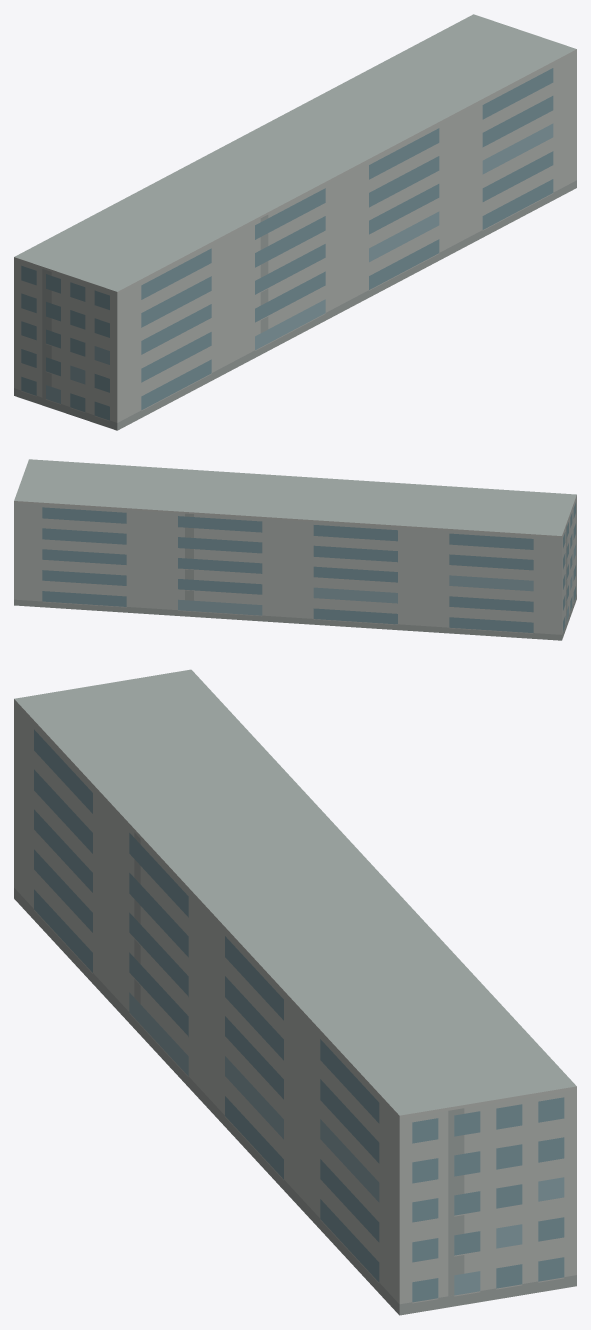
The model's file is residential-8b275ee3-3bc2-44d5-ab64-11d0f0770fa5.glb.
3 views of the same model, one above another, from view 1: azimuth 30°, elevation 25°; view 2: azimuth 150°, elevation 25°; view 3: azimuth 270°, elevation 25° (orthographic). The views are drawn at different scales.
Visible parts, largest first — view 1: residential-8b275ee3-3bc2-44d5-ab64-11d0f0770fa5.tmp; view 2: residential-8b275ee3-3bc2-44d5-ab64-11d0f0770fa5.tmp; view 3: residential-8b275ee3-3bc2-44d5-ab64-11d0f0770fa5.tmp.
Boxes of the visible parts, x1=… form: residential-8b275ee3-3bc2-44d5-ab64-11d0f0770fa5.tmp: x1=14, y1=14, x2=576, y2=430; residential-8b275ee3-3bc2-44d5-ab64-11d0f0770fa5.tmp: x1=14, y1=459, x2=576, y2=640; residential-8b275ee3-3bc2-44d5-ab64-11d0f0770fa5.tmp: x1=14, y1=669, x2=576, y2=1315.
Bounding box in the file's own units: 73.04 × 15.25 × 38.94.
